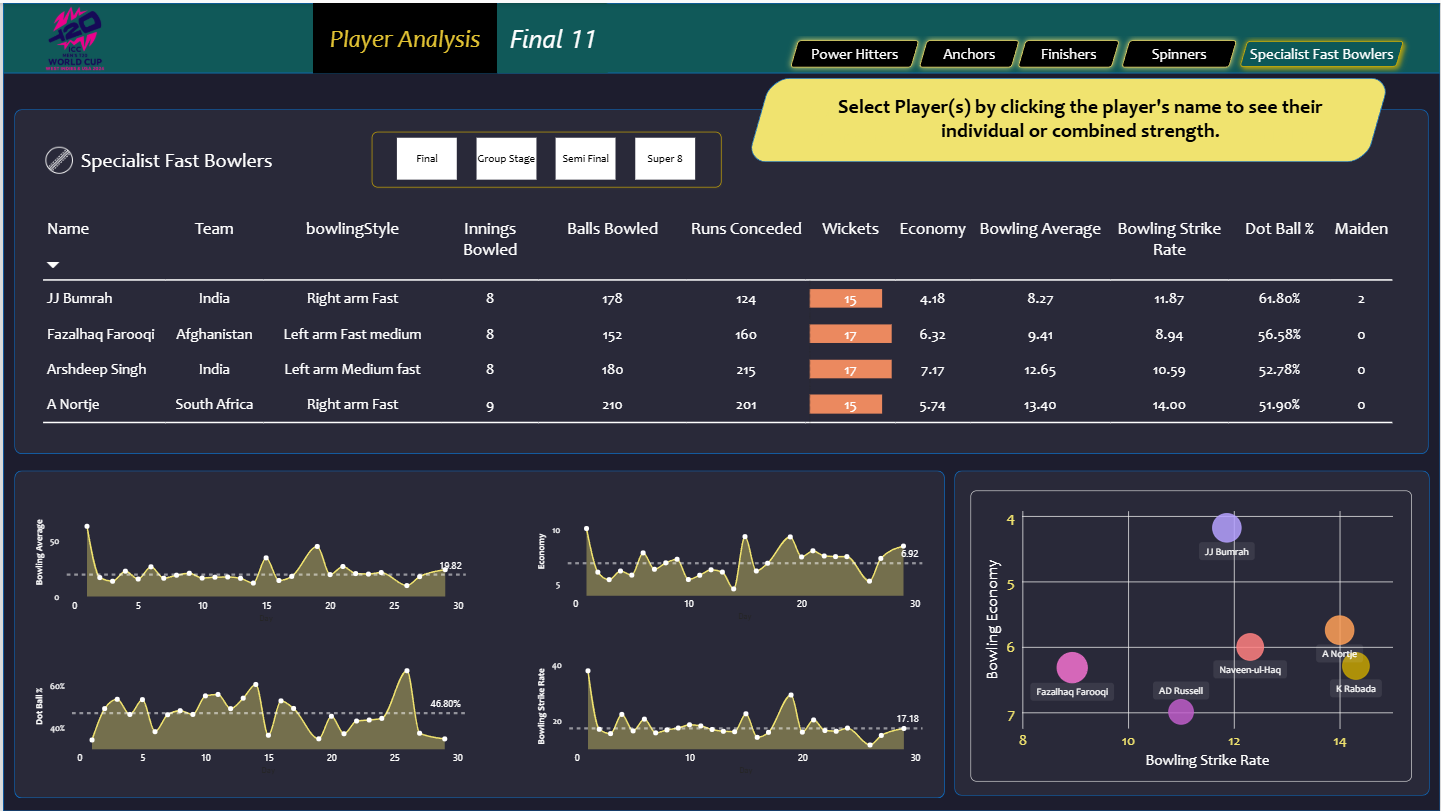

This screenshot's page, from the dashboard's own definition file:
{"tool":"powerbi","page":{"name":"New Specialist Fast Bowlers ","canvas":[1920,1080],"ordinal":4},"visuals":[{"type":"shape","box":[0,29,1920.1,1051.4],"z":0},{"type":"cardVisual","fields":{"Data":["Measures .Bowling Average"]},"box":[1217.9,114.2,163.1,90.2],"z":0,"group":"g1"},{"type":"cardVisual","fields":{"Data":["Measures .Bowling Strike Rate"]},"box":[1356.7,111.8,162.9,90.2],"z":1000,"group":"g1"},{"type":"shape","box":[14.5,142.5,1889.4,460.5],"z":1000},{"type":"cardVisual","fields":{"Data":["Measures .Bowling Economy"]},"box":[1494.6,108.6,151,90.2],"z":2000,"group":"g1"},{"type":"image","box":[54.3,191.8,39.8,36.2],"z":2000},{"type":"cardVisual","fields":{"Data":["Measures .Dot Ball %"]},"box":[1606.4,111.8,189.4,90.2],"z":3000,"group":"g1"},{"type":"shape","box":[1270.4,624.3,635.2,434.3],"z":3000},{"type":"tableEx","fields":{"Values":["dm_player_summary.Name","dm_player_summary.Team","dm_player_summary.BowlingStyle","Measures .Total Innings Bowled","Measures .Balls Bowled","Measures .Runs Conceded","Measures .Wickets","Measures .Bowling Economy","Measures .Bowling Average","Measures .Bowling Strike Rate","Measures .Dot Ball %","Sum(fact_bowling_summary.Maiden)"]},"box":[37.2,262.3,1844,318],"z":4000},{"type":"shape","box":[0,0,1920,94],"z":5000},{"type":"scatterChart","fields":{"Category":["dm_player_summary.Name"],"Series":["dm_player_summary.Name"],"Size":["Measures .Wickets"],"X":["Measures .Bowling Strike Rate"],"Y":["Measures .Bowling Economy"]},"box":[1292.1,651.5,589.9,389.1],"z":6000},{"type":"advancedSlicerVisual","fields":{"Values":["dm_match_summary.Stage"]},"box":[492.2,171.9,466.9,74.2],"z":7000},{"type":"shape","box":[94.1,177.3,276.9,65.1],"z":8000},{"type":"shape","box":[993.5,99.5,859.6,112.2],"z":9000},{"type":"shape","box":[1015.2,106.8,229.8,108.6],"z":10000},{"type":"shape","box":[14.5,624.3,1243.2,437.9],"z":11000},{"type":"areaChart","fields":{"Category":["dm_match_summary.Match_date.Variation.Date Hierarchy.Day"],"Y":["Measures .Bowling Average"]},"box":[26.8,650.5,607.1,192],"z":12000},{"type":"areaChart","fields":{"Category":["dm_match_summary.Match_date.Variation.Date Hierarchy.Day"],"Y":["Measures .Bowling Economy"]},"box":[698.5,651.5,546,190],"z":13000},{"type":"areaChart","fields":{"Category":["dm_match_summary.Match_date.Variation.Date Hierarchy.Day"],"Y":["Measures .Bowling Strike Rate"]},"box":[698.5,859.6,546.5,186.4],"z":14000},{"type":"areaChart","fields":{"Category":["dm_match_summary.Match_date.Variation.Date Hierarchy.Day"],"Y":["Measures .Dot Ball %"]},"box":[27.1,859.6,606.2,186.4],"z":15000},{"type":"shape","box":[414,0,246,94],"z":16000},{"type":"group","id":"g1","title":"Group 2","box":[1217.9,108.6,577.3,95.9],"z":17000},{"type":"actionButton","box":[660,0,150,94],"z":18000},{"type":"image","box":[0,0,192,94],"z":19000},{"type":"shape","box":[1084,117.6,711.2,74.2],"z":20000},{"type":"actionButton","box":[1044.2,41.6,188.2,52.5],"z":21000},{"type":"actionButton","box":[1216,42,150.2,52.5],"z":22000},{"type":"actionButton","box":[1348.2,41.6,152,52.5],"z":23000},{"type":"shape","box":[1643.2,41.6,237.1,52.5],"z":24000},{"type":"actionButton","box":[1485.7,41.6,170.1,52.5],"z":25000}]}

Visuals, with their boxes in screenshot pixels (x1, y1, x2, y2), scaled from the page's 1920x1080 canvas onto the 1441x811 screenshot:
shape: {"x1": 0, "y1": 22, "x2": 1440, "y2": 810}
cardVisual - Measures .Bowling Average: {"x1": 914, "y1": 86, "x2": 1036, "y2": 153}
cardVisual - Measures .Bowling Strike Rate: {"x1": 1018, "y1": 84, "x2": 1140, "y2": 152}
shape: {"x1": 11, "y1": 107, "x2": 1429, "y2": 453}
cardVisual - Measures .Bowling Economy: {"x1": 1122, "y1": 82, "x2": 1235, "y2": 149}
image: {"x1": 41, "y1": 144, "x2": 71, "y2": 171}
cardVisual - Measures .Dot Ball %: {"x1": 1206, "y1": 84, "x2": 1348, "y2": 152}
shape: {"x1": 953, "y1": 469, "x2": 1430, "y2": 795}
tableEx - dm_player_summary.Name x dm_player_summary.Team: {"x1": 28, "y1": 197, "x2": 1412, "y2": 436}
shape: {"x1": 0, "y1": 0, "x2": 1440, "y2": 71}
scatterChart - dm_player_summary.Name x dm_player_summary.Name: {"x1": 970, "y1": 489, "x2": 1412, "y2": 781}
advancedSlicerVisual - dm_match_summary.Stage: {"x1": 369, "y1": 129, "x2": 720, "y2": 185}
shape: {"x1": 71, "y1": 133, "x2": 278, "y2": 182}
shape: {"x1": 746, "y1": 75, "x2": 1391, "y2": 159}
shape: {"x1": 762, "y1": 80, "x2": 934, "y2": 162}
shape: {"x1": 11, "y1": 469, "x2": 944, "y2": 798}
areaChart - dm_match_summary.Match_date.Variation.Date Hierarchy.Day x Measures .Bowling Average: {"x1": 20, "y1": 488, "x2": 476, "y2": 633}
areaChart - dm_match_summary.Match_date.Variation.Date Hierarchy.Day x Measures .Bowling Economy: {"x1": 524, "y1": 489, "x2": 934, "y2": 632}
areaChart - dm_match_summary.Match_date.Variation.Date Hierarchy.Day x Measures .Bowling Strike Rate: {"x1": 524, "y1": 645, "x2": 934, "y2": 785}
areaChart - dm_match_summary.Match_date.Variation.Date Hierarchy.Day x Measures .Dot Ball %: {"x1": 20, "y1": 645, "x2": 475, "y2": 785}
shape: {"x1": 311, "y1": 0, "x2": 495, "y2": 71}
"Group 2" group: {"x1": 914, "y1": 82, "x2": 1347, "y2": 154}
actionButton: {"x1": 495, "y1": 0, "x2": 608, "y2": 71}
image: {"x1": 0, "y1": 0, "x2": 144, "y2": 71}
shape: {"x1": 814, "y1": 88, "x2": 1347, "y2": 144}
actionButton: {"x1": 784, "y1": 31, "x2": 925, "y2": 71}
actionButton: {"x1": 913, "y1": 32, "x2": 1025, "y2": 71}
actionButton: {"x1": 1012, "y1": 31, "x2": 1126, "y2": 71}
shape: {"x1": 1233, "y1": 31, "x2": 1411, "y2": 71}
actionButton: {"x1": 1115, "y1": 31, "x2": 1243, "y2": 71}
